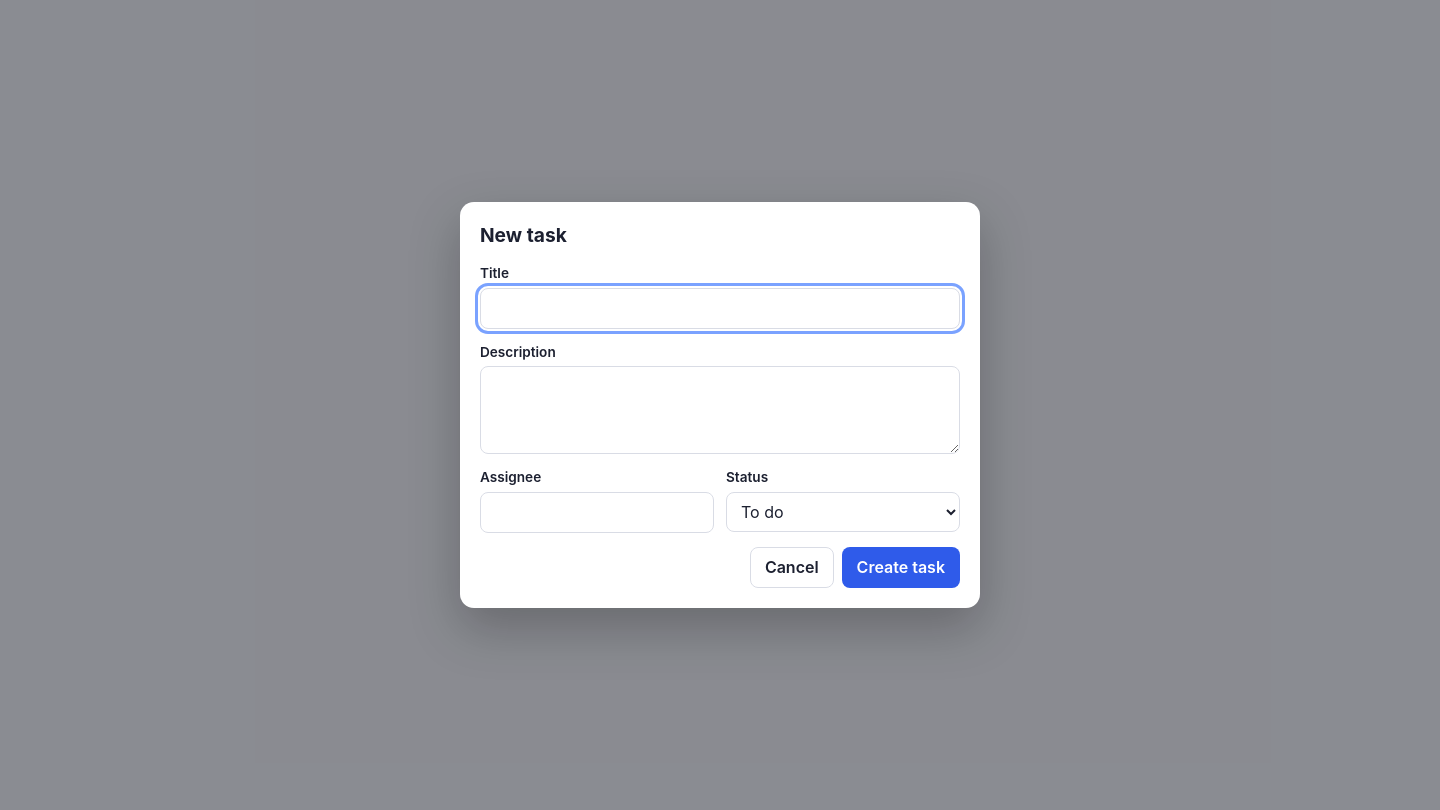
Scenario: TaskDialog › shows a validation error and does not submit an empty title
Click the button "Create task".
click(901, 567)  # box [842,547,960,588]
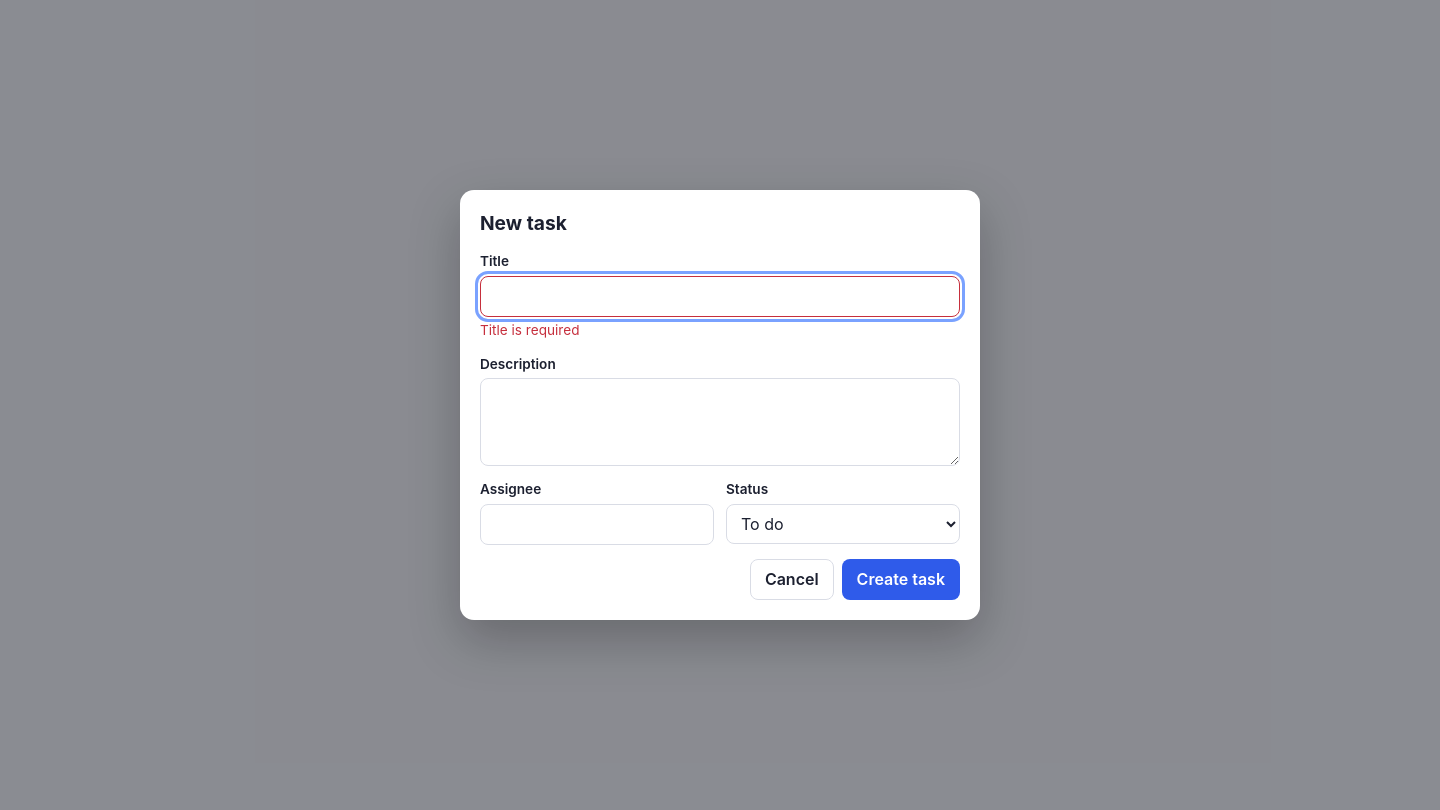
Check: the text with test id "title-error" reads "Title is required", box [480,322,580,338]
